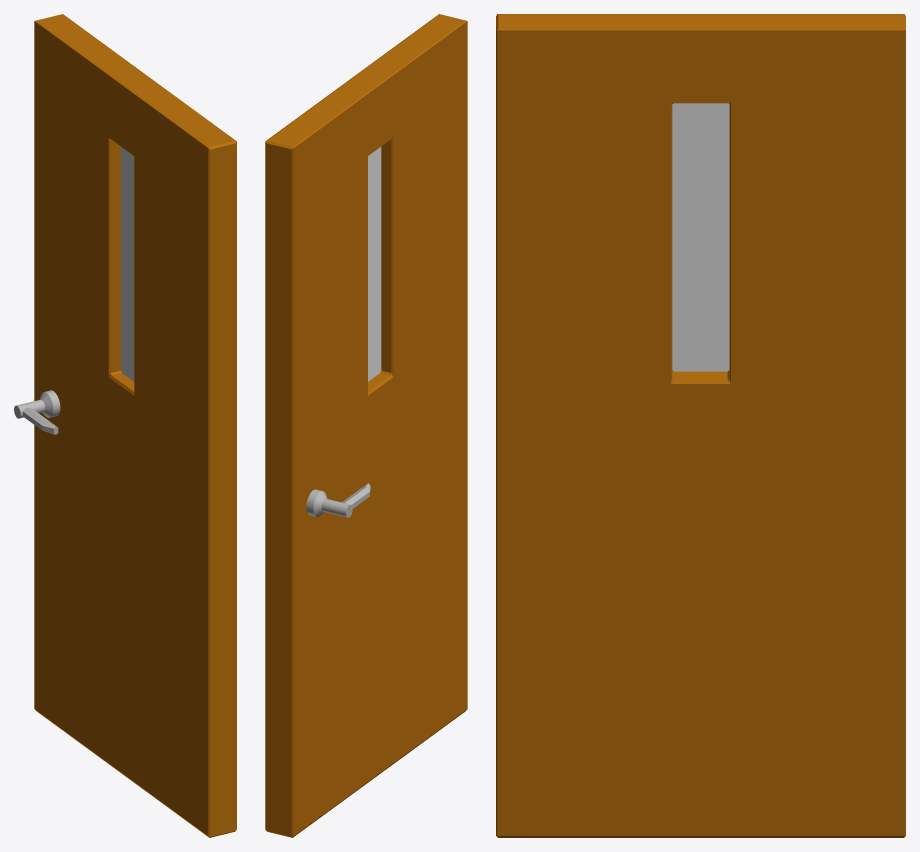
The model's file is Classroomdoor.fbx.
The picture shows the model from 3 angles, left to right: view 1: azimuth 30°, elevation 25°; view 2: azimuth 150°, elevation 25°; view 3: azimuth 270°, elevation 25°; orthographic projection. The views are drawn at different scales.
Visible parts, largest first — view 1: Cube.026, Plane, Cylinder.004, Cube.027; view 2: Cube.026, Plane, Cylinder.004; view 3: Cube.026, Plane.
Part boxes in pixels (x1,y1,x2,y2): Cube.026: (34,14,236,837); Plane: (121,147,134,381); Cylinder.004: (14,390,60,418); Cube.027: (22,407,58,434); Cube.026: (265,14,467,837); Plane: (368,147,381,381); Cylinder.004: (306,489,352,517); Cube.026: (496,14,905,837); Plane: (672,103,729,371).
Size of the model in its own units: 83.04 by 845 by 388.
